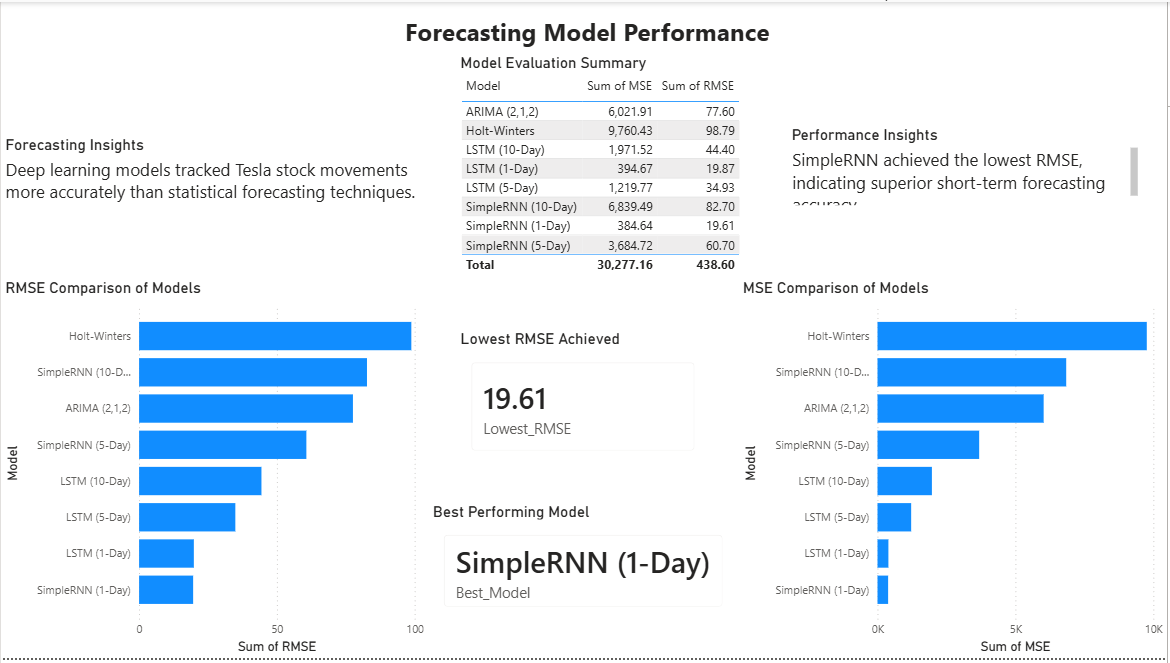

Layout of this report page (visuals, bound fields, positions):
{"tool":"powerbi","page":{"name":"Page 3","canvas":[1280,720],"ordinal":2},"visuals":[{"type":"clusteredBarChart","title":"RMSE Comparison of Models","fields":{"Category":["model_comparison.Model"],"Y":["Sum(model_comparison.RMSE)"]},"box":[0,303.3,469.3,417.2],"z":0},{"type":"clusteredBarChart","title":"MSE Comparison of Models","fields":{"Category":["model_comparison.Model"],"Y":["Sum(model_comparison.MSE)"]},"box":[809.6,303.3,470.7,417.2],"z":1},{"type":"cardVisual","title":"Best Performing Model","fields":{"Data":["model_comparison.Best_Model"]},"box":[469.3,548.9,340.3,133.1],"z":2},{"type":"tableEx","title":"Model Evaluation Summary","fields":{"Values":["model_comparison.Model","Sum(model_comparison.MSE)","Sum(model_comparison.RMSE)"]},"box":[499.5,56.3,332.1,247],"z":4},{"type":"cardVisual","title":"Lowest RMSE Achieved","fields":{"Data":["model_comparison.Lowest_RMSE"]},"box":[499.5,359.5,279.9,150.9],"z":5},{"type":"textbox","title":"Forecasting Insights","box":[0,146.8,469.3,81],"z":6},{"type":"textbox","title":"Performance Insights","box":[863.1,135.8,389.7,91.9],"z":7},{"type":"textbox","box":[34.3,9.6,1218.5,46.7],"z":8}]}

Visuals, with their boxes in screenshot pixels (x1, y1, x2, y2), scaled from the page's 1280x720 canvas onto the 1170x663 screenshot:
"RMSE Comparison of Models" clusteredBarChart: <bbox>0, 279, 429, 662</bbox>
"MSE Comparison of Models" clusteredBarChart: <bbox>740, 279, 1169, 662</bbox>
"Best Performing Model" cardVisual: <bbox>429, 505, 740, 628</bbox>
"Model Evaluation Summary" tableEx: <bbox>457, 52, 760, 279</bbox>
"Lowest RMSE Achieved" cardVisual: <bbox>457, 331, 712, 470</bbox>
"Forecasting Insights" textbox: <bbox>0, 135, 429, 210</bbox>
"Performance Insights" textbox: <bbox>789, 125, 1145, 210</bbox>
textbox: <bbox>31, 9, 1145, 52</bbox>
